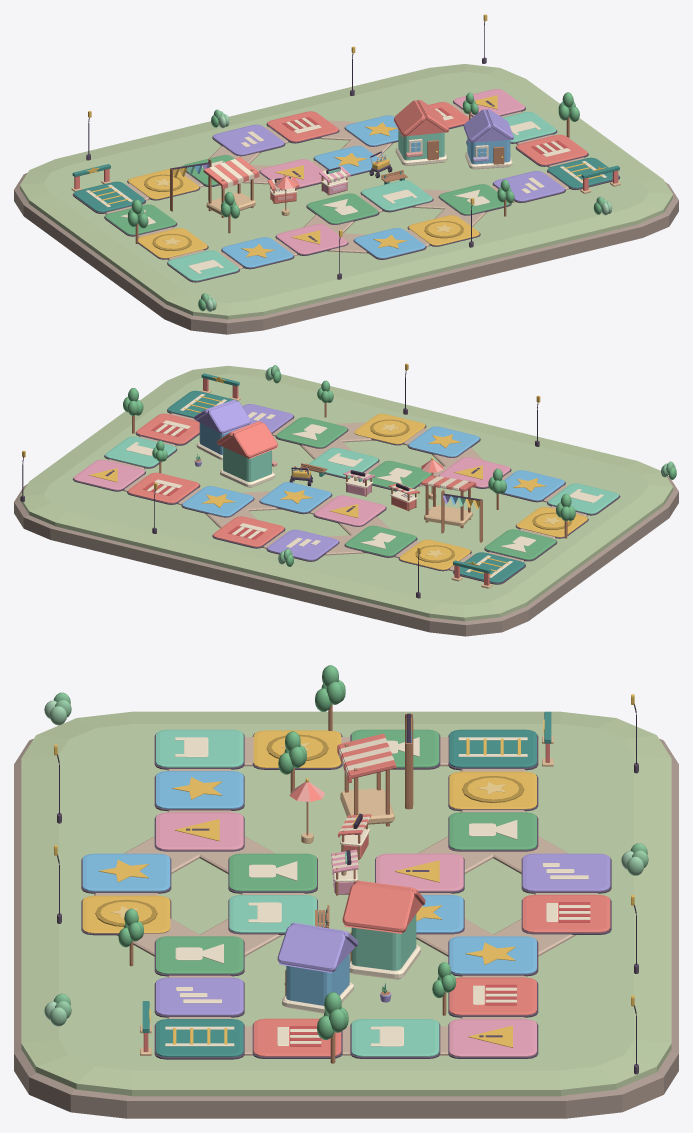
The model's file is cho_via_he.glb.
3 views of the same model, one above another, from view 1: azimuth 30°, elevation 25°; view 2: azimuth 150°, elevation 25°; view 3: azimuth 270°, elevation 25° (orthographic). The views are drawn at different scales.
Parts seen in each view (by area): view 1: island_top, island_base, C13, F01_L2, F02_R2, C07, C12, F02_L2, F01_L1, F02_L1, C11, C00 (+24 smaller); view 2: island_top, island_base, F01_L2, C05, C15, C02, F01_R1, C10, F01_R2, F02_R2, C03, C04 (+23 smaller); view 3: island_top, island_base, C08, C00, C10, F01_L1, F02_R2, C09, C13, C12, C05, C06 (+35 smaller).
Boxes of the visible parts, x1,y1,x2,y2 form: island_top: [20, 64, 672, 319]; island_base: [14, 173, 678, 334]; C13: [167, 250, 239, 282]; F01_L2: [266, 111, 339, 143]; F02_R2: [353, 228, 426, 259]; C07: [515, 134, 588, 166]; C12: [221, 237, 294, 269]; F02_L2: [306, 193, 379, 224]; F01_L1: [212, 124, 285, 156]; F02_L1: [360, 180, 433, 212]; C11: [275, 224, 348, 255]; C00: [72, 181, 145, 213]; island_top: [20, 365, 672, 621]; island_base: [14, 476, 678, 636]; F01_L2: [212, 516, 285, 548]; C05: [72, 459, 145, 491]; C15: [484, 529, 557, 561]; C02: [344, 525, 417, 557]; F01_R1: [313, 495, 386, 526]; C10: [275, 417, 348, 448]; F01_R2: [259, 482, 332, 514]; F02_R2: [407, 426, 480, 457]; C03: [181, 486, 254, 517]; C04: [127, 472, 200, 504]; island_top: [21, 711, 671, 1096]; island_base: [14, 739, 678, 1118]; C08: [154, 1019, 244, 1059]; C00: [448, 729, 538, 770]; C10: [154, 936, 244, 976]; F01_L1: [521, 853, 611, 893]; F02_R2: [81, 853, 171, 893]; C09: [154, 977, 244, 1017]; C13: [154, 729, 244, 769]; C12: [154, 771, 244, 810]; C05: [448, 1019, 538, 1058]; C06: [350, 1019, 440, 1058].
Size of the model in its own units: 18.6 by 2.61 by 13.6.
